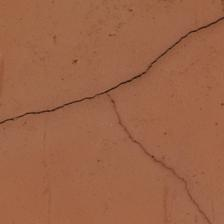Crack: (167, 40, 224, 169), (81, 49, 143, 160)
